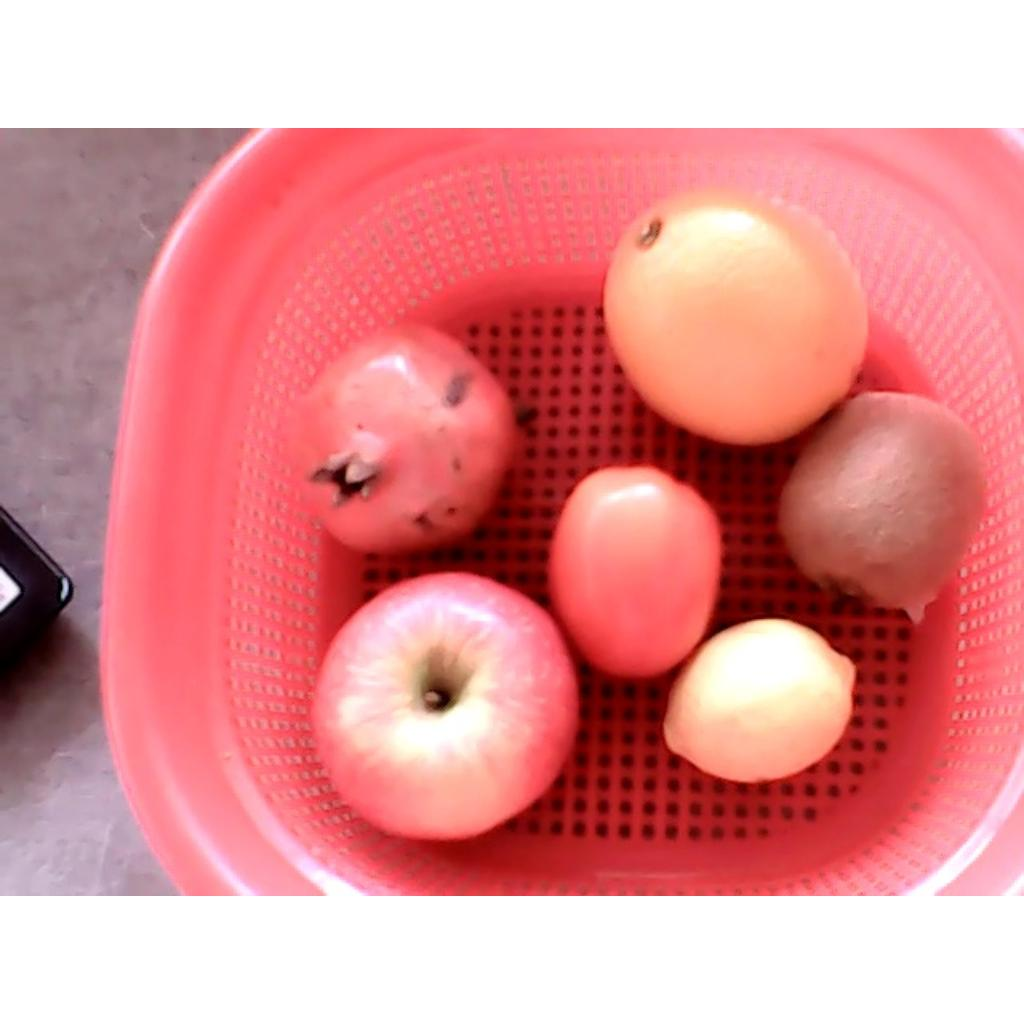apple: (314, 570, 580, 841)
kiwi: (777, 393, 988, 612)
lemon: (661, 621, 854, 783)
orange: (604, 186, 870, 445)
pomegranate: (294, 323, 515, 553)
tomato: (547, 467, 721, 687)
